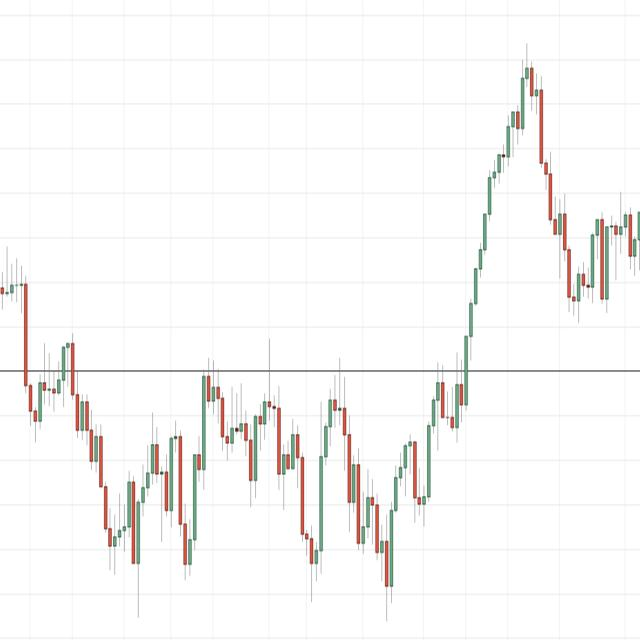Triple-Bottom: (176, 370, 412, 590)
